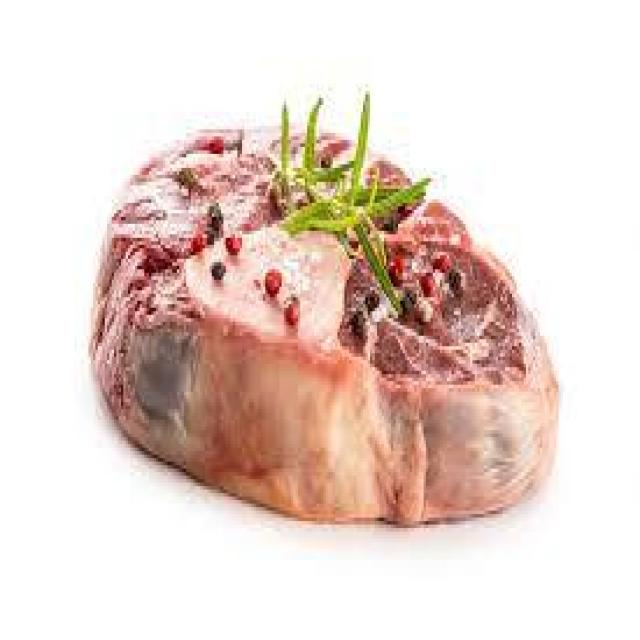Beef: (82, 324, 583, 528)
